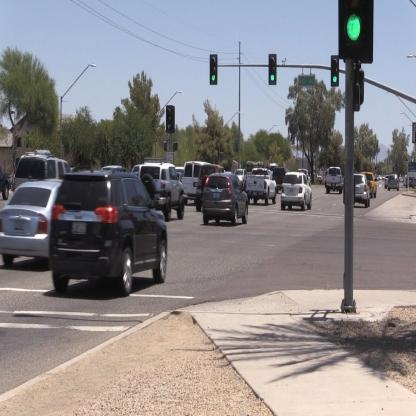Traffic Signal: (267, 52, 277, 84), (330, 55, 340, 85), (209, 53, 217, 84)
